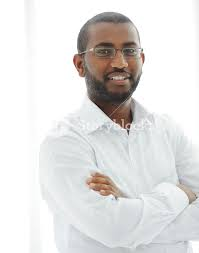middle_eastern_male: (78, 20, 151, 95)
